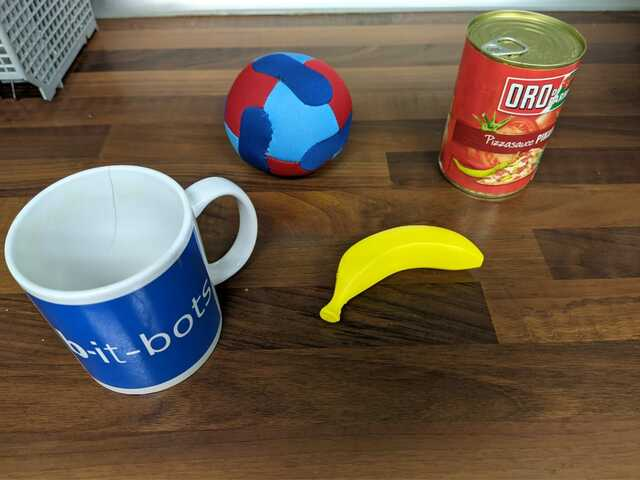005_tomato_soup_can: (435, 8, 590, 200)
011_banana: (318, 223, 485, 325)
025_mug: (4, 164, 258, 397)
057_racquetball: (223, 52, 353, 180)
